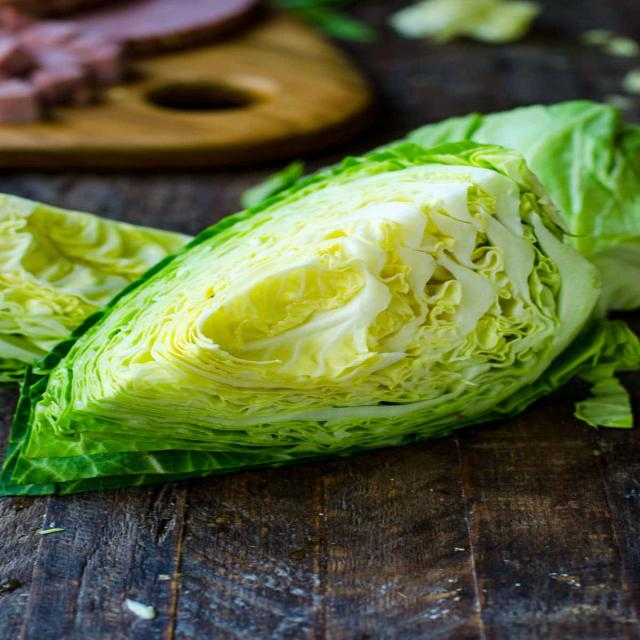haft-cabbage: (0, 137, 613, 501)
